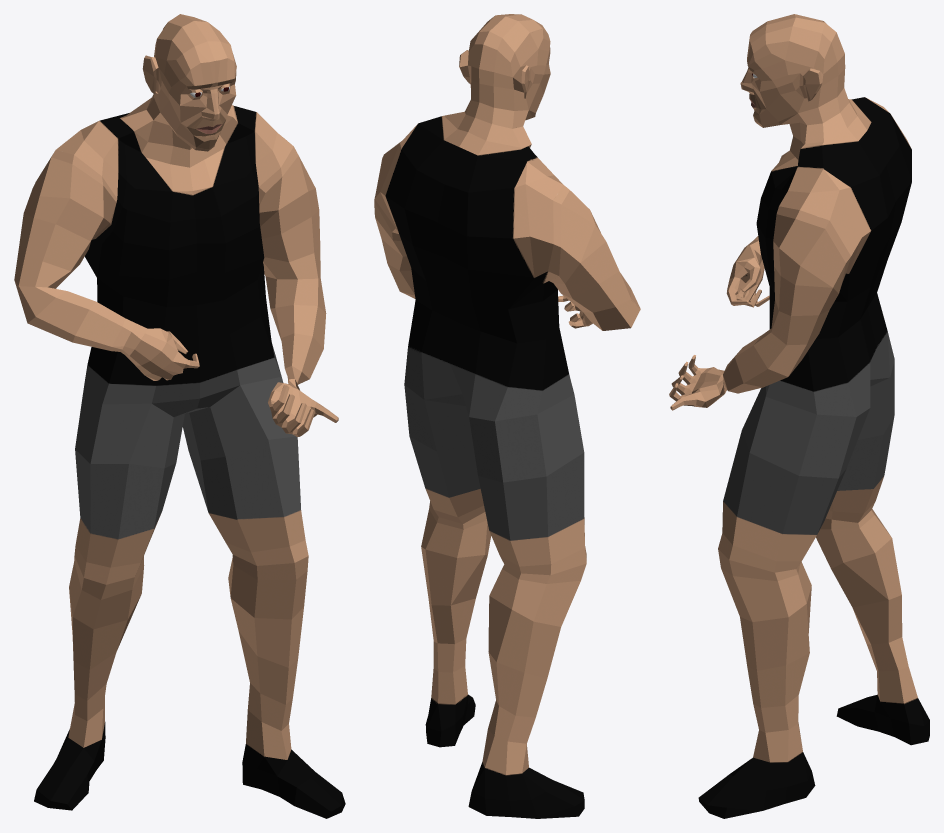
File: PlayerIdle(69).obj
3 renders of one model, left to right at view 1: azimuth 30°, elevation 25°; view 2: azimuth 150°, elevation 25°; view 3: azimuth 270°, elevation 25°, orthographic. The views are drawn at different scales.
Parts seen in each view (by area): view 1: Plane002; view 2: Plane002; view 3: Plane002.
Part boxes in pixels (x1=…): Plane002: x1=14, y1=14, x2=345, y2=818; Plane002: x1=374, y1=14, x2=640, y2=818; Plane002: x1=669, y1=14, x2=929, y2=818.
Size of the model in its own units: 669 by 1799 by 568.
